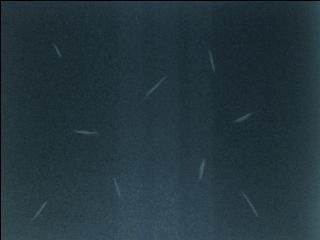scratch: (227, 177, 260, 219), (139, 74, 169, 104), (30, 196, 52, 224), (189, 155, 210, 184), (202, 44, 217, 76), (228, 109, 258, 125), (48, 40, 68, 61), (112, 175, 126, 202), (73, 128, 99, 137)
